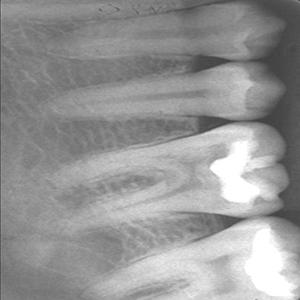tooth: (56, 121, 288, 229), (101, 217, 300, 299), (49, 58, 285, 118), (48, 2, 285, 61)
